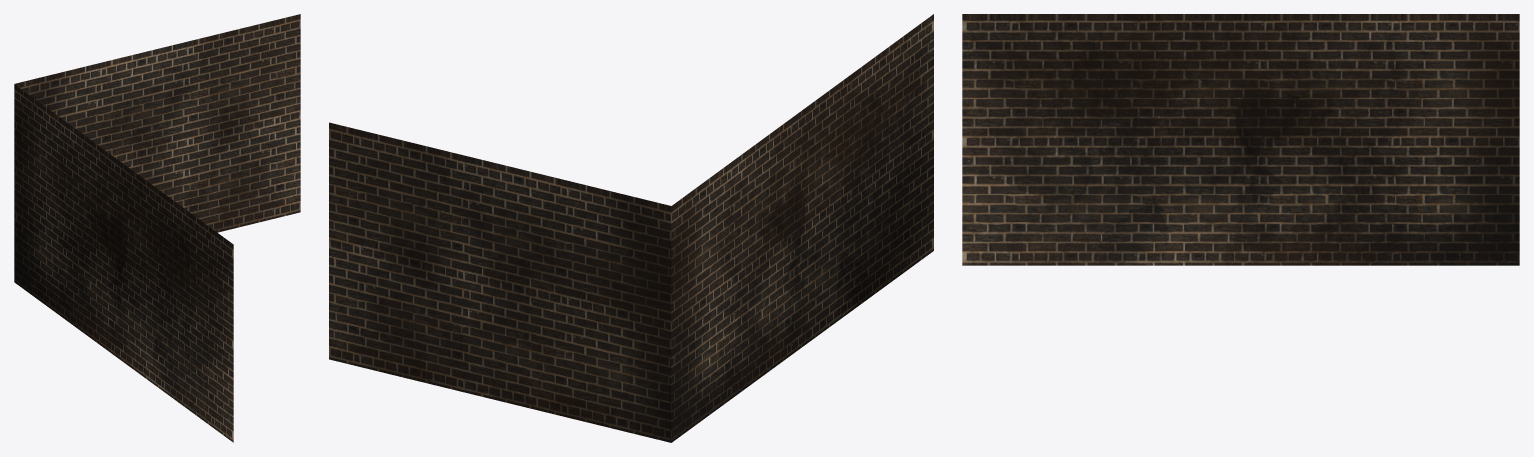
File: wall.glb
3 renders of one model, left to right at view 1: azimuth 30°, elevation 25°; view 2: azimuth 150°, elevation 25°; view 3: azimuth 270°, elevation 25°, orthographic. The views are drawn at different scales.
Visible parts, largest first — view 1: Wall; view 2: Wall; view 3: Wall.
Boxes of the visible parts, <box> form: Wall: <box>14,14,300,442</box>; Wall: <box>329,14,933,442</box>; Wall: <box>962,14,1519,265</box>.
Size of the model in its own units: 7.54 by 4.99 by 10.01.
1 material, 1 textured.
